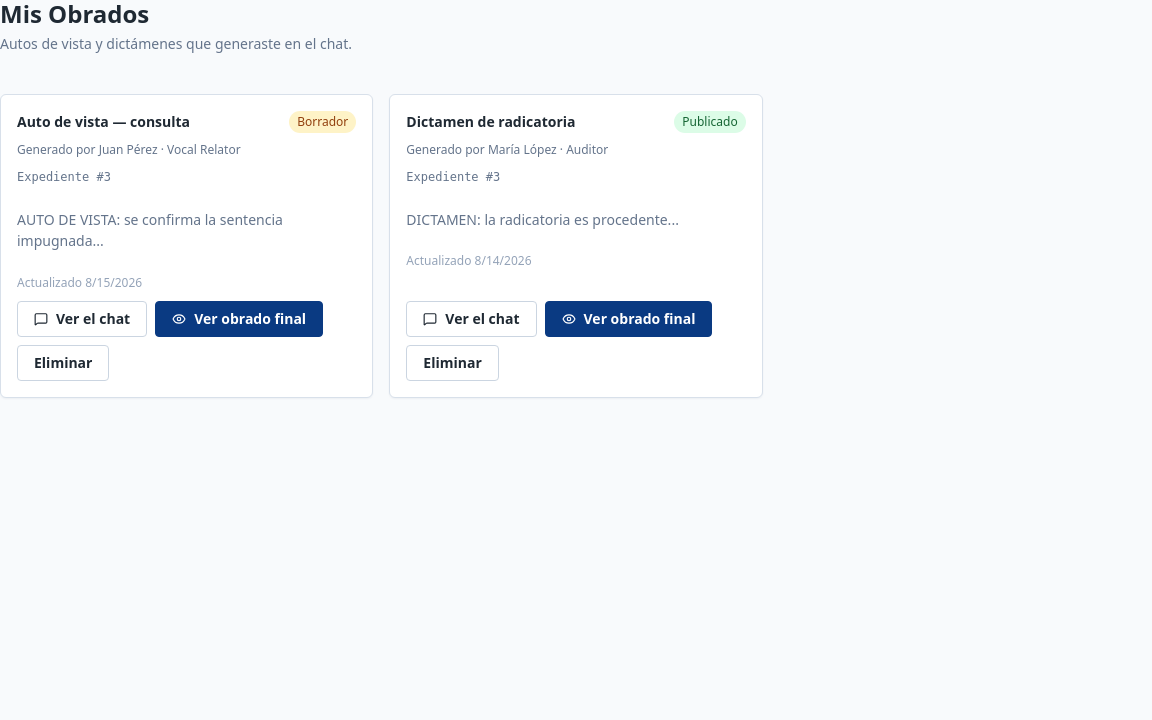
Scenario: Mis Borradores: cambios sin guardar › Publicar queda deshabilitado hasta guardar los cambios
Click the button "Ver obrado final" below "8/15/2026" at coordinates (239, 318), box [155,300,323,336]
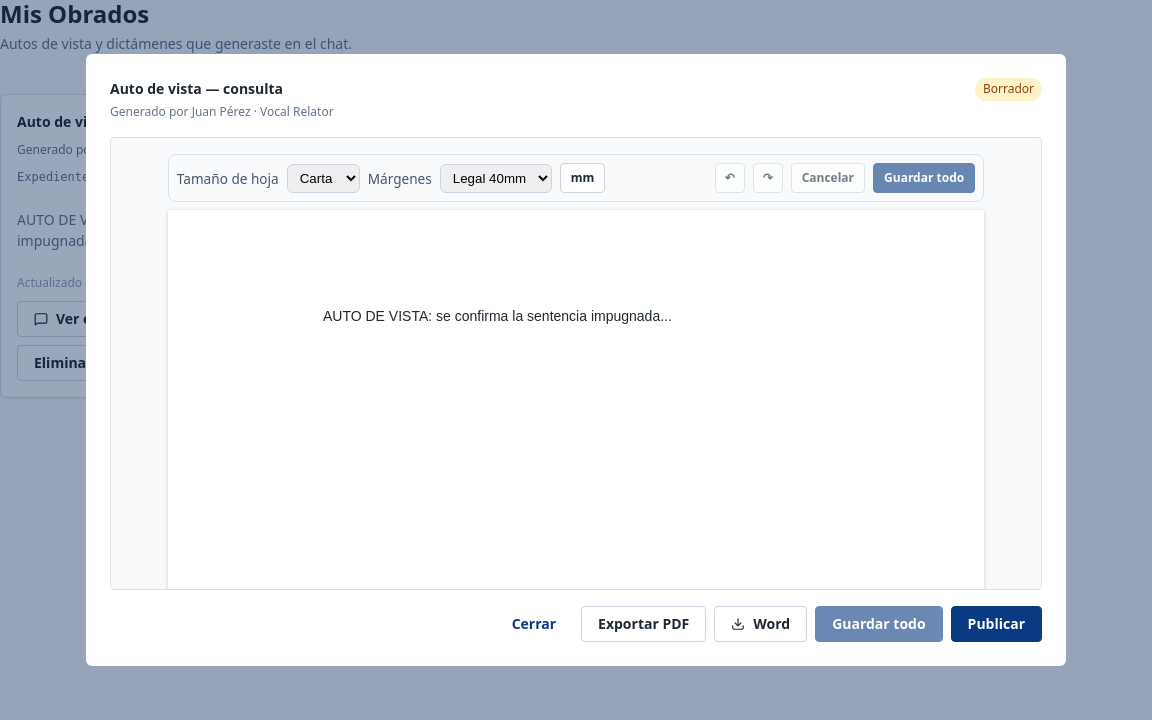
Click the button "AUTO DE VISTA: se confirma la sentencia impugnada..." at coordinates (497, 316), box [323,308,672,324]
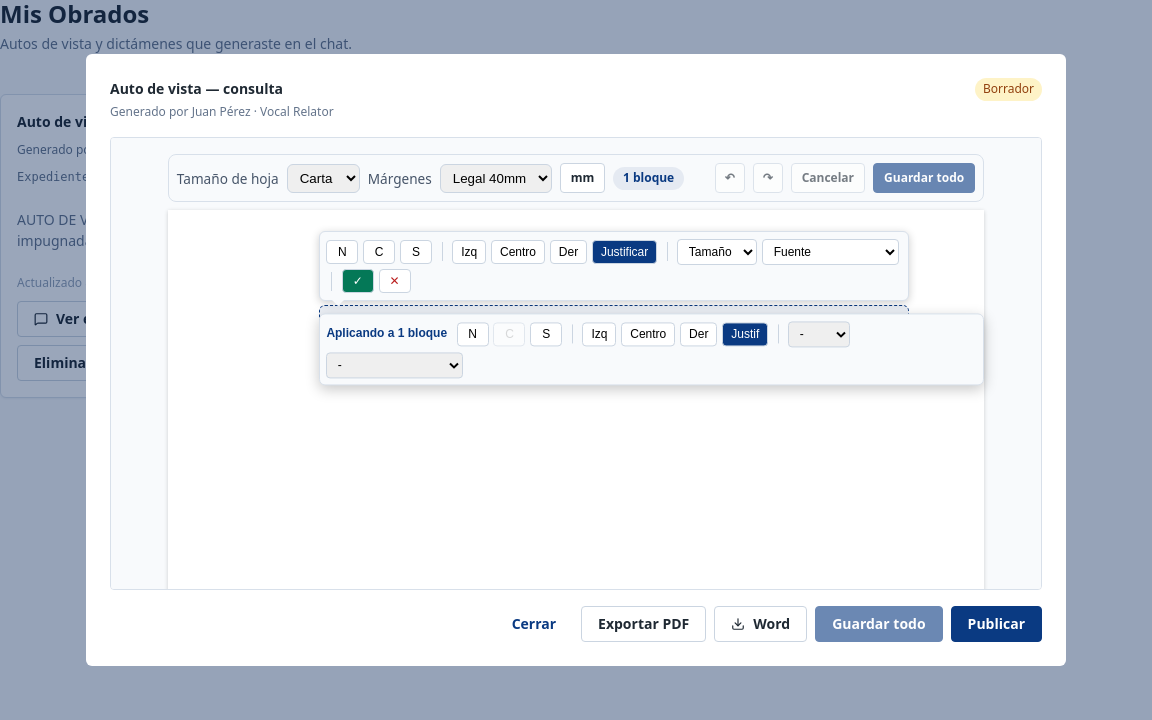
Click the button titled "Negrita" in the row of "Aplicando a" at coordinates (473, 334), box [457,322,489,346]
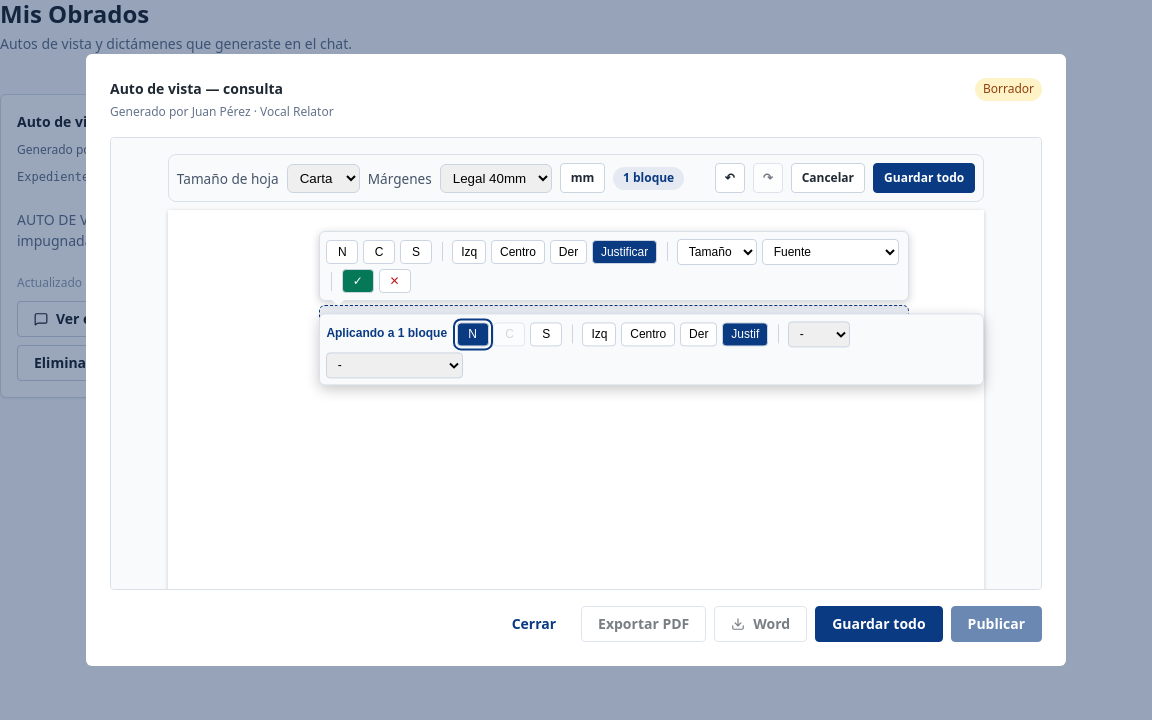
Result: the button "Publicar" is disabled at [951,606,1042,642]
